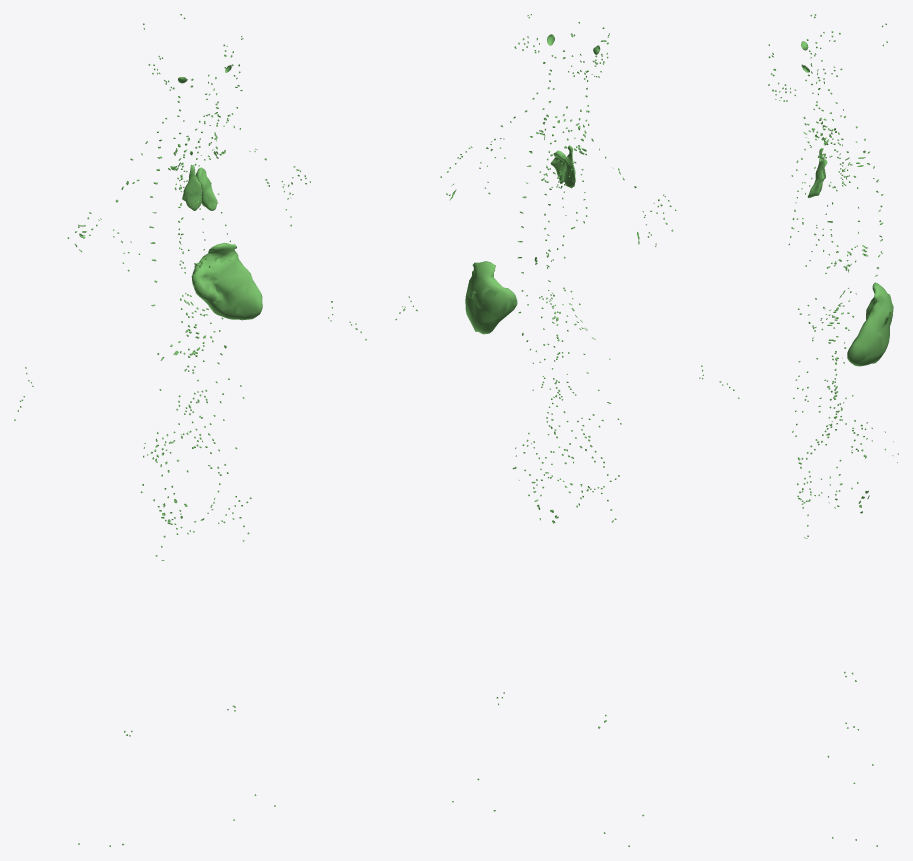
The model's file is lymphatic.glb.
3 views of the same model, side by side, from view 1: azimuth 30°, elevation 25°; view 2: azimuth 150°, elevation 25°; view 3: azimuth 270°, elevation 25° (orthographic). The views are drawn at different scales.
Visible parts, largest first — view 1: VF_spleen; view 2: VF_spleen; view 3: VF_spleen, W_FJ3150.
Part boxes in pixels (x1,y1,x2,y2): VF_spleen: (191,242,262,320); VF_spleen: (465,261,517,334); VF_spleen: (847,282,893,366); W_FJ3150: (807,159,827,198).
Size of the model in its own units: 0.5463 by 1.19 by 0.1805.
